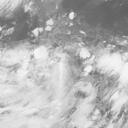cyclone: (22, 43, 94, 101)
